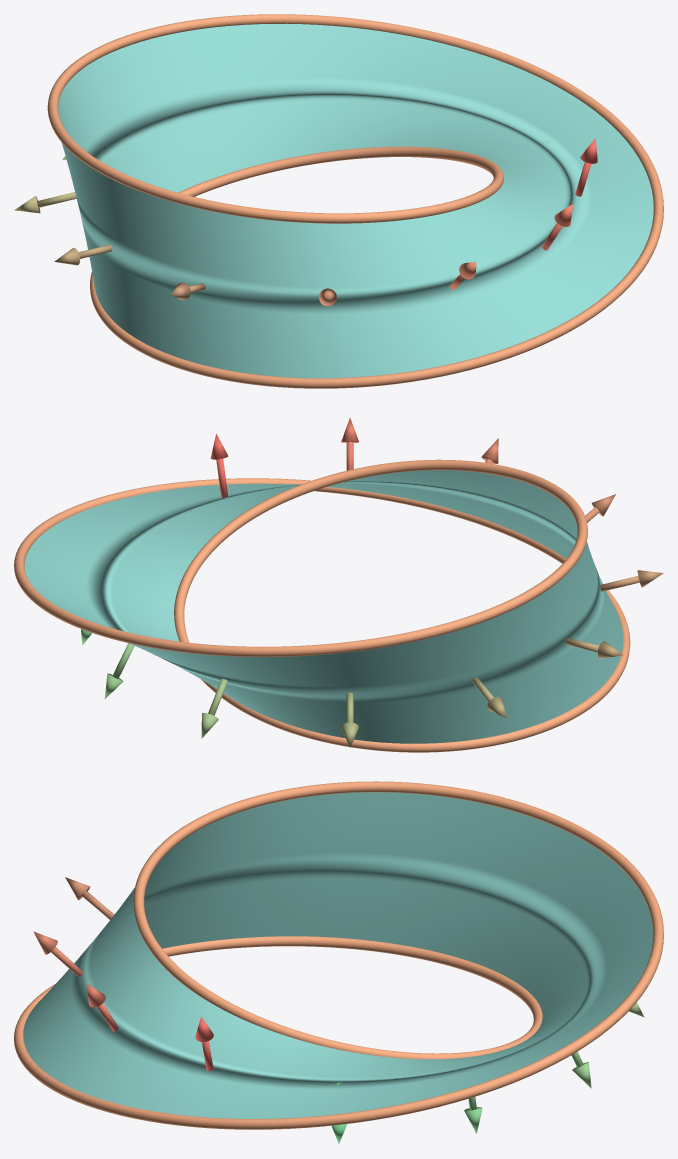
File: mobius-band.glb
The picture shows the model from 3 angles, top to bottom: view 1: azimuth 30°, elevation 25°; view 2: azimuth 150°, elevation 25°; view 3: azimuth 270°, elevation 25°; orthographic projection. The views are drawn at different scales.
Parts seen in each view (by area): view 1: MobiusBand, Boundary, Normal05; view 2: MobiusBand, Boundary, Normal07, Normal11, Normal03, Normal06, Normal02, Normal04; view 3: MobiusBand, Boundary, Normal09, Normal08.
Boxes of the visible parts, x1,y1,x2,y2 form: MobiusBand: (58,23,653,378); Boundary: (47,14,663,388); Normal05: (14,192,76,213); MobiusBand: (24,470,623,743); Boundary: (14,459,630,752); Normal07: (600,570,663,591); Normal11: (210,433,228,497); Normal03: (201,678,227,738); Normal06: (565,638,623,658); Normal02: (104,643,134,699); Normal04: (341,692,358,747); MobiusBand: (23,792,653,1118); Boundary: (14,781,663,1129); Normal09: (33,931,83,976); Normal08: (65,877,114,919).
Bounding box in the file's own units: 3 × 0.8079 × 2.9.
